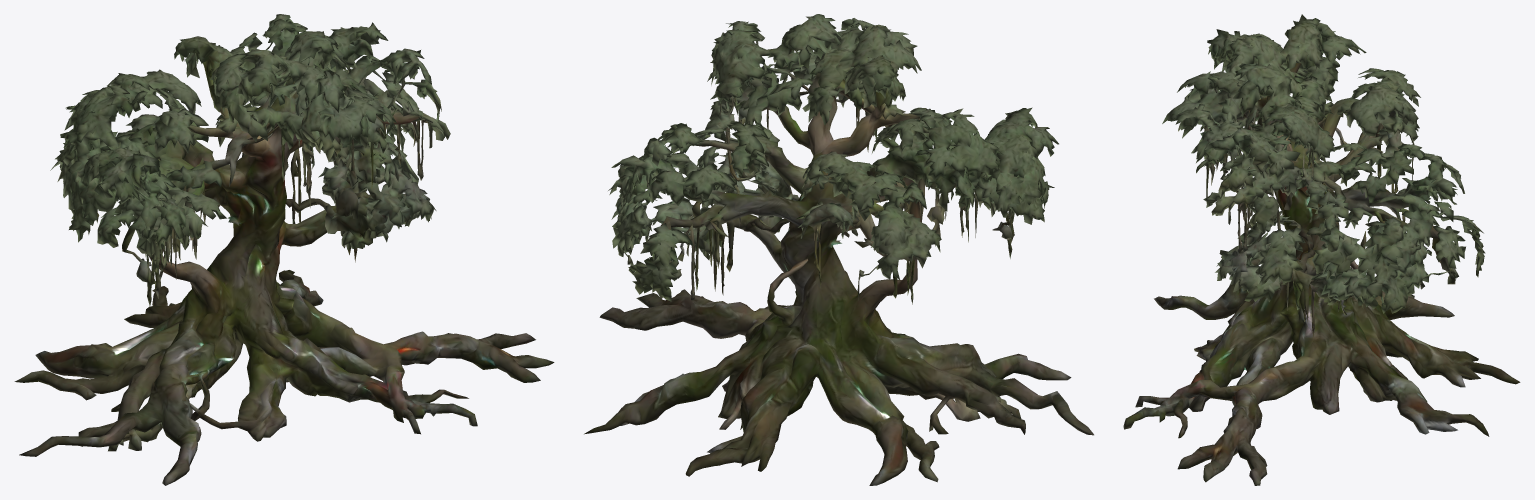
Rendered from biotope_tree.glb.
3 views of the same model, side by side, from view 1: azimuth 30°, elevation 25°; view 2: azimuth 150°, elevation 25°; view 3: azimuth 270°, elevation 25° (orthographic). The views are drawn at different scales.
Parts seen in each view (by area): view 1: biotope_tree; view 2: biotope_tree; view 3: biotope_tree.
Part boxes in pixels (left/top/right/bottom): biotope_tree: left=14, top=14, right=554, bottom=485; biotope_tree: left=584, top=14, right=1093, bottom=485; biotope_tree: left=1123, top=14, right=1520, bottom=485.
Bounding box in the file's own units: 10.24 × 7 × 7.62.
Materials: 1 (1 with a texture image).
